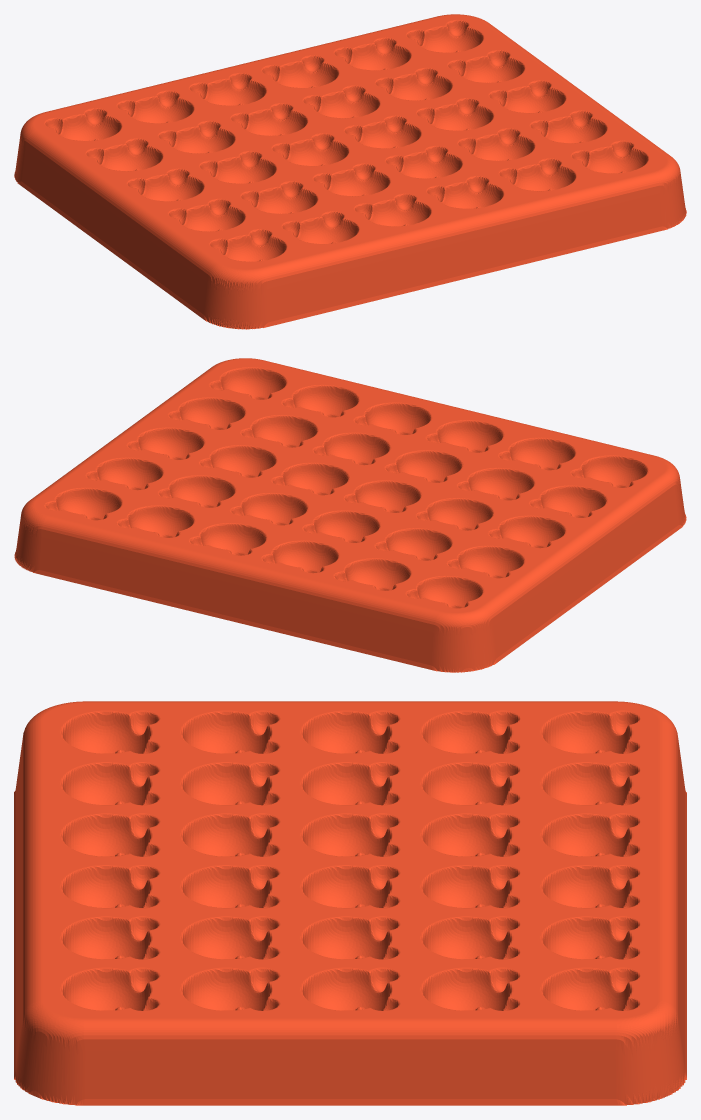
Rendered from mold.glb.
3 renders of one model, top to bottom at view 1: azimuth 30°, elevation 25°; view 2: azimuth 150°, elevation 25°; view 3: azimuth 270°, elevation 25°, orthographic. The views are drawn at different scales.
Visible parts, largest first — view 1: geometry_0; view 2: geometry_0; view 3: geometry_0.
Part boxes in pixels (x1=…): geometry_0: x1=14, y1=14, x2=686, y2=329; geometry_0: x1=14, y1=358, x2=686, y2=672; geometry_0: x1=14, y1=701, x2=686, y2=1105.
Bounding box in the file's own units: 0.1016 × 0.0105 × 0.0852.
